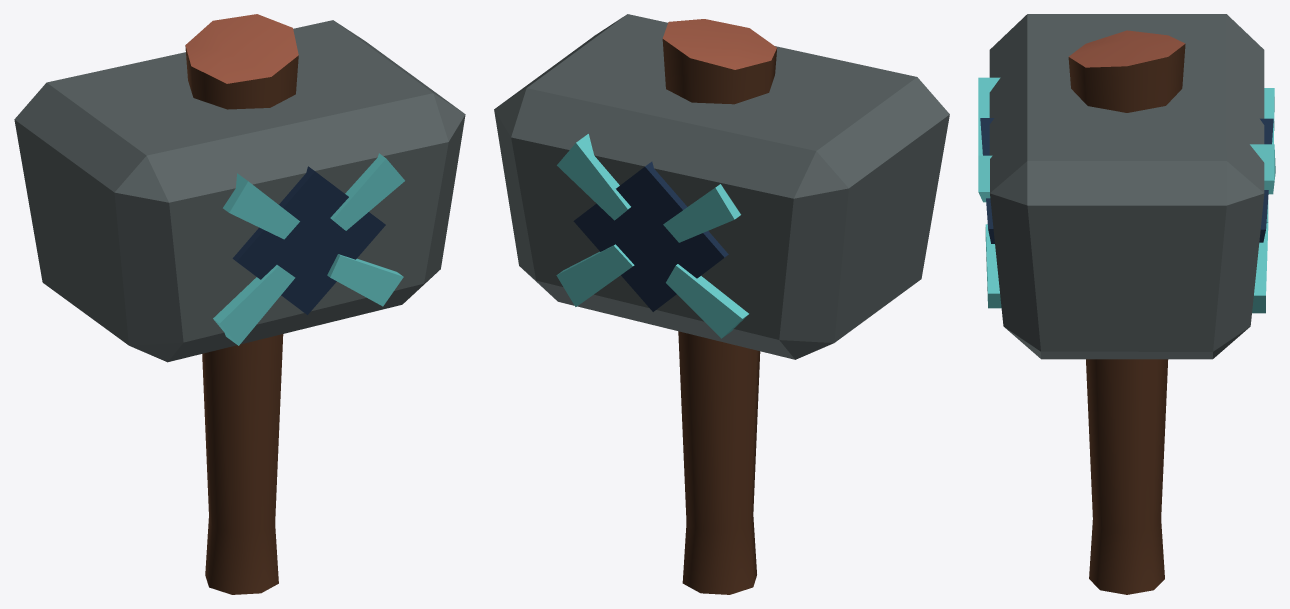
File: Hammer_LHand_11.fbx
3 views of the same model, side by side, from view 1: azimuth 30°, elevation 25°; view 2: azimuth 150°, elevation 25°; view 3: azimuth 270°, elevation 25° (orthographic).
Parts seen in each view (by area): view 1: Hammer_LHand_11; view 2: Hammer_LHand_11; view 3: Hammer_LHand_11.
Boxes of the visible parts, x1,y1,x2,y2 form: Hammer_LHand_11: [14, 14, 465, 594]; Hammer_LHand_11: [494, 14, 949, 594]; Hammer_LHand_11: [978, 14, 1275, 594].
Size of the model in its own units: 37.51 by 55.71 by 27.61.
